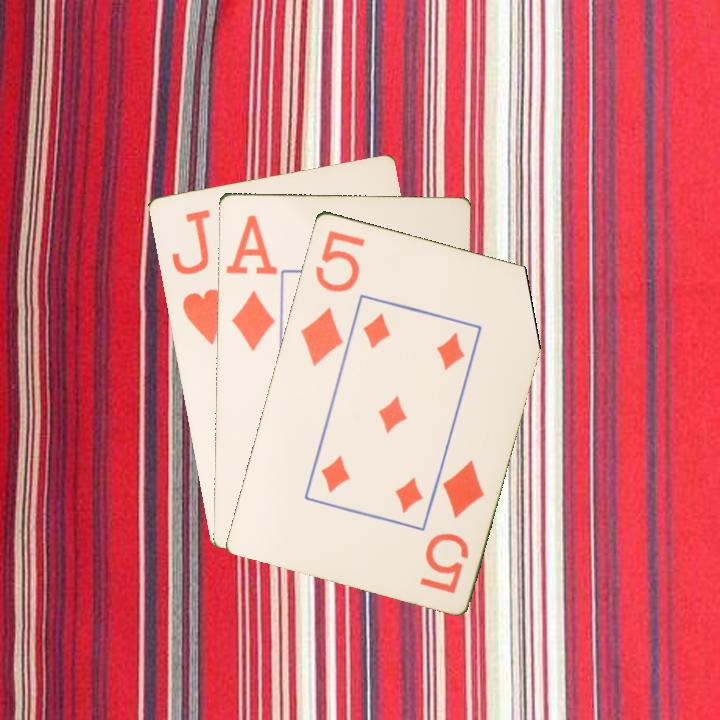5d: (296, 226, 367, 369), (415, 456, 487, 596)
Ad: (222, 211, 279, 354)
Jh: (167, 205, 228, 348)
